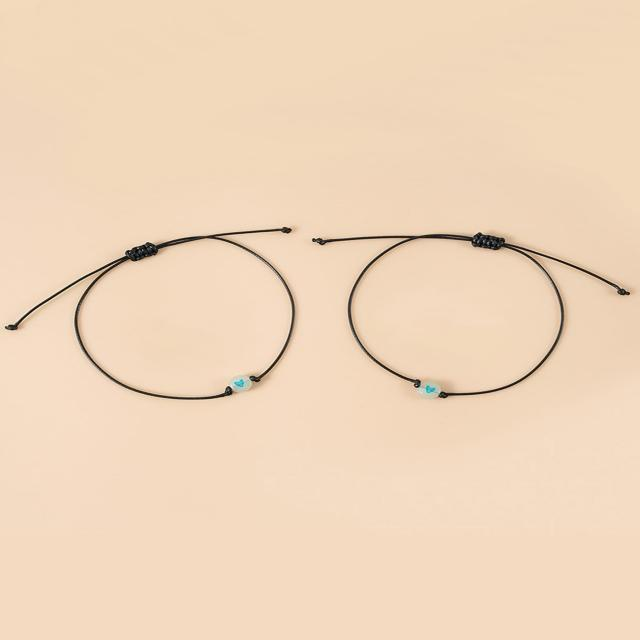bracelet: (298, 97, 640, 464), (5, 131, 319, 451)
